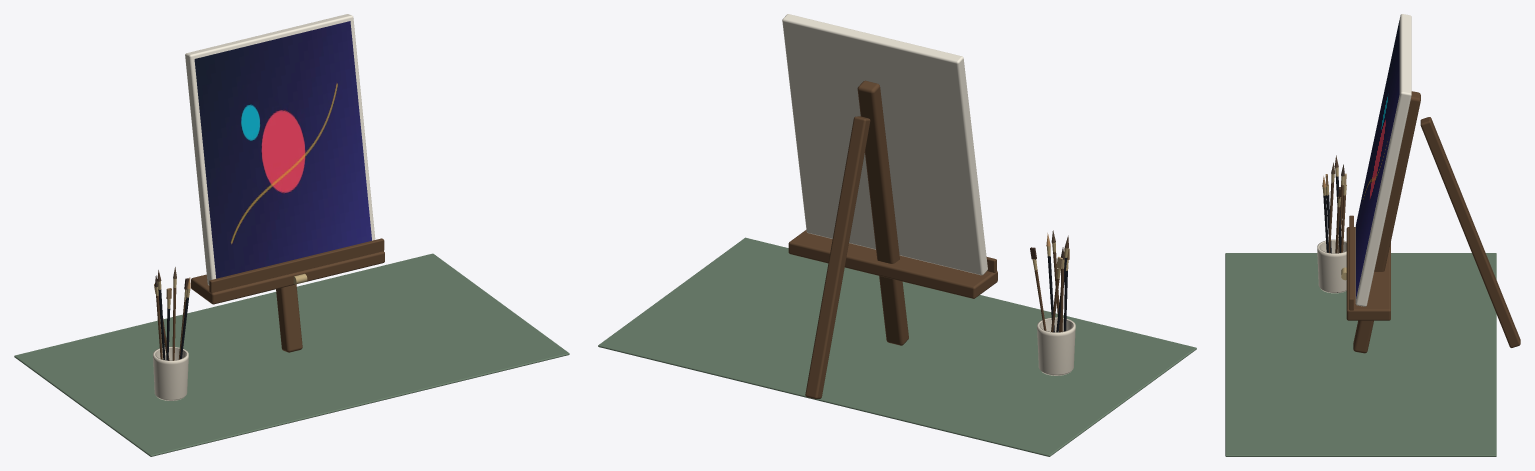
The model's file is atelier-artist-set-easel-sage.glb.
The picture shows the model from 3 angles, left to right: view 1: azimuth 30°, elevation 25°; view 2: azimuth 150°, elevation 25°; view 3: azimuth 270°, elevation 25°; orthographic projection. The views are drawn at different scales.
Visible parts, largest first — view 1: object 1, object 7, Artist canvas stretcher, object 4, Artist retaining lip, object 9, object 2; view 2: object 1, Artist canvas stretcher, object 2, object 3, object 4, object 9; view 3: object 1, Artist canvas stretcher, object 7, object 3, object 2, object 4, object 9, Artist retaining lip.
Boxes of the visible parts, x1=… form: object 1: x1=14, y1=253, x2=569, y2=456; object 7: x1=194, y1=21, x2=371, y2=278; Artist canvas stretcher: x1=185, y1=14, x2=375, y2=285; object 4: x1=191, y1=251, x2=384, y2=304; Artist retaining lip: x1=209, y1=238, x2=384, y2=293; object 9: x1=153, y1=346, x2=188, y2=400; object 2: x1=276, y1=284, x2=302, y2=352; object 1: x1=598, y1=237, x2=1196, y2=456; Artist canvas stretcher: x1=782, y1=14, x2=987, y2=275; object 2: x1=857, y1=80, x2=908, y2=345; object 3: x1=805, y1=116, x2=870, y2=398; object 4: x1=788, y1=230, x2=997, y2=298; object 9: x1=1037, y1=317, x2=1075, y2=375; object 1: x1=1225, y1=253, x2=1496, y2=456; Artist canvas stretcher: x1=1355, y1=14, x2=1411, y2=306; object 7: x1=1356, y1=20, x2=1399, y2=298; object 3: x1=1420, y1=117, x2=1520, y2=347; object 2: x1=1353, y1=91, x2=1420, y2=353; object 4: x1=1346, y1=227, x2=1390, y2=320; object 9: x1=1317, y1=239, x2=1346, y2=293; Artist retaining lip: x1=1349, y1=215, x2=1353, y2=310.
Size of the model in its own units: 0.92 by 0.6408 by 0.5659.
14 materials, 1 textured.
